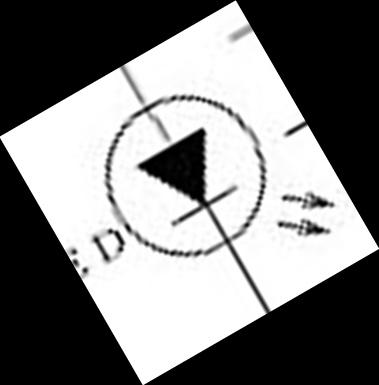t5: (100, 89, 274, 259)
